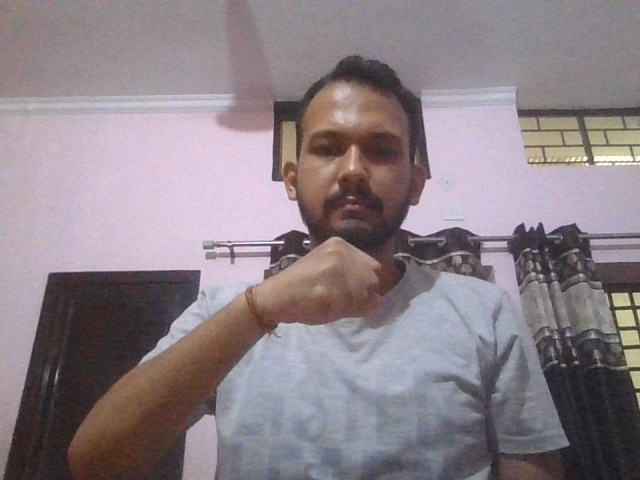yes: (255, 236, 387, 323)
